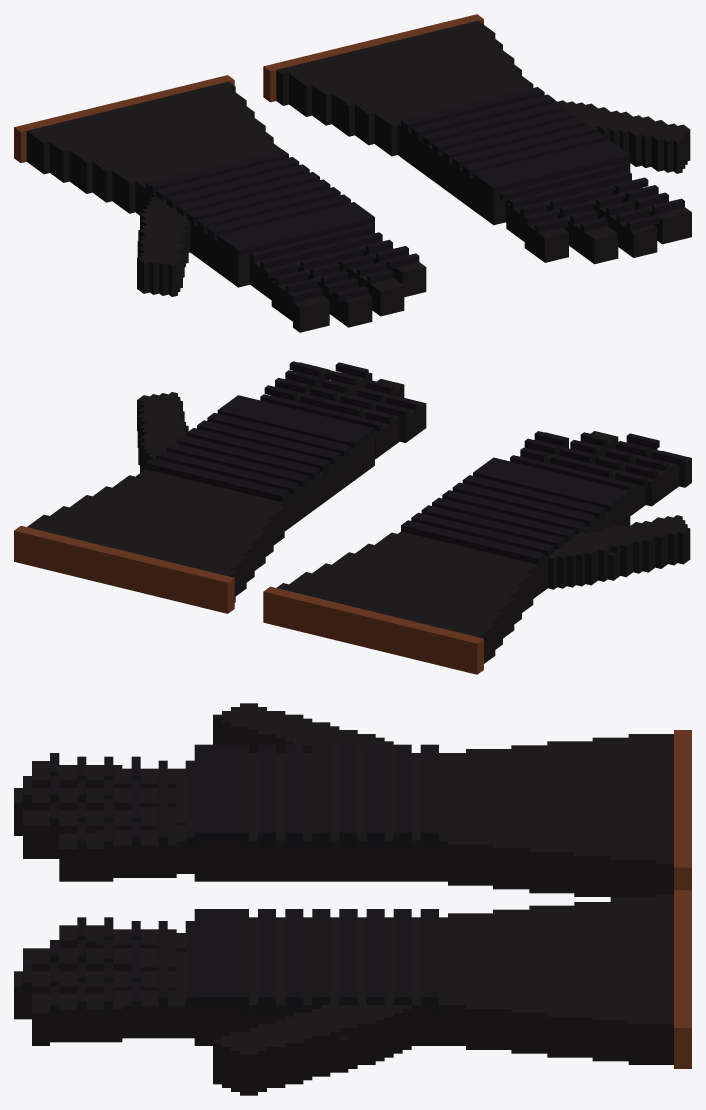
Rendered from gauntlets_black_dragon_scale.glb.
3 views of the same model, one above another, from view 1: azimuth 30°, elevation 25°; view 2: azimuth 150°, elevation 25°; view 3: azimuth 270°, elevation 25° (orthographic). The views are drawn at different scales.
Parts seen in each view (by area): view 1: gauntlets_black_dragon_scale:compound; view 2: gauntlets_black_dragon_scale:compound; view 3: gauntlets_black_dragon_scale:compound.
Boxes of the visible parts, box(x1,y1,x2,y2) form: gauntlets_black_dragon_scale:compound: box(14, 14, 691, 332); gauntlets_black_dragon_scale:compound: box(14, 361, 691, 674); gauntlets_black_dragon_scale:compound: box(14, 703, 691, 1095).
Bounding box in the file's own units: 0.368 × 0.024 × 0.3.
